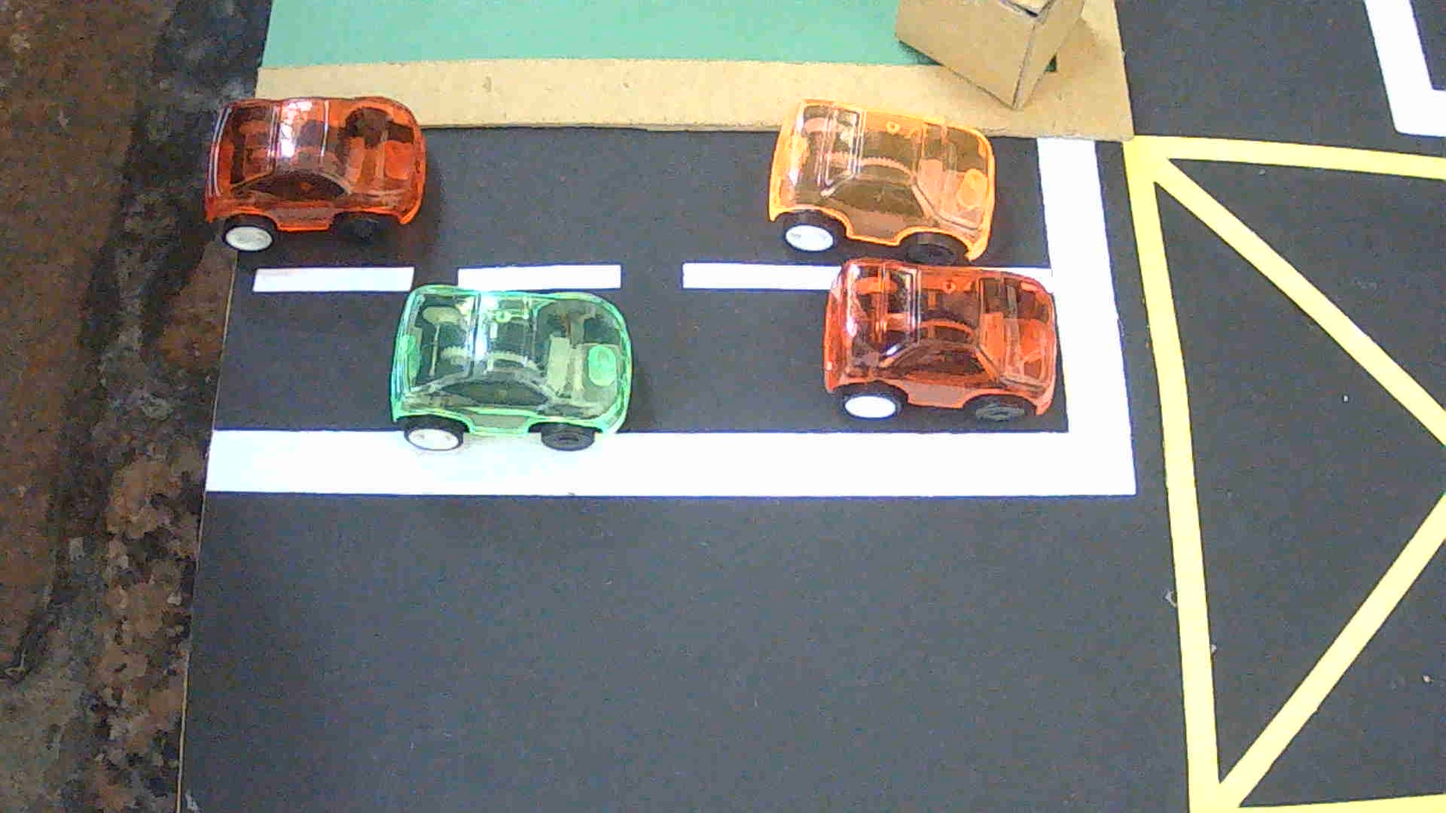Mobil hijau: (390, 285, 632, 450)
Mobil merah: (822, 258, 1057, 421), (204, 97, 425, 251)
Mobil orange: (768, 100, 994, 264)
